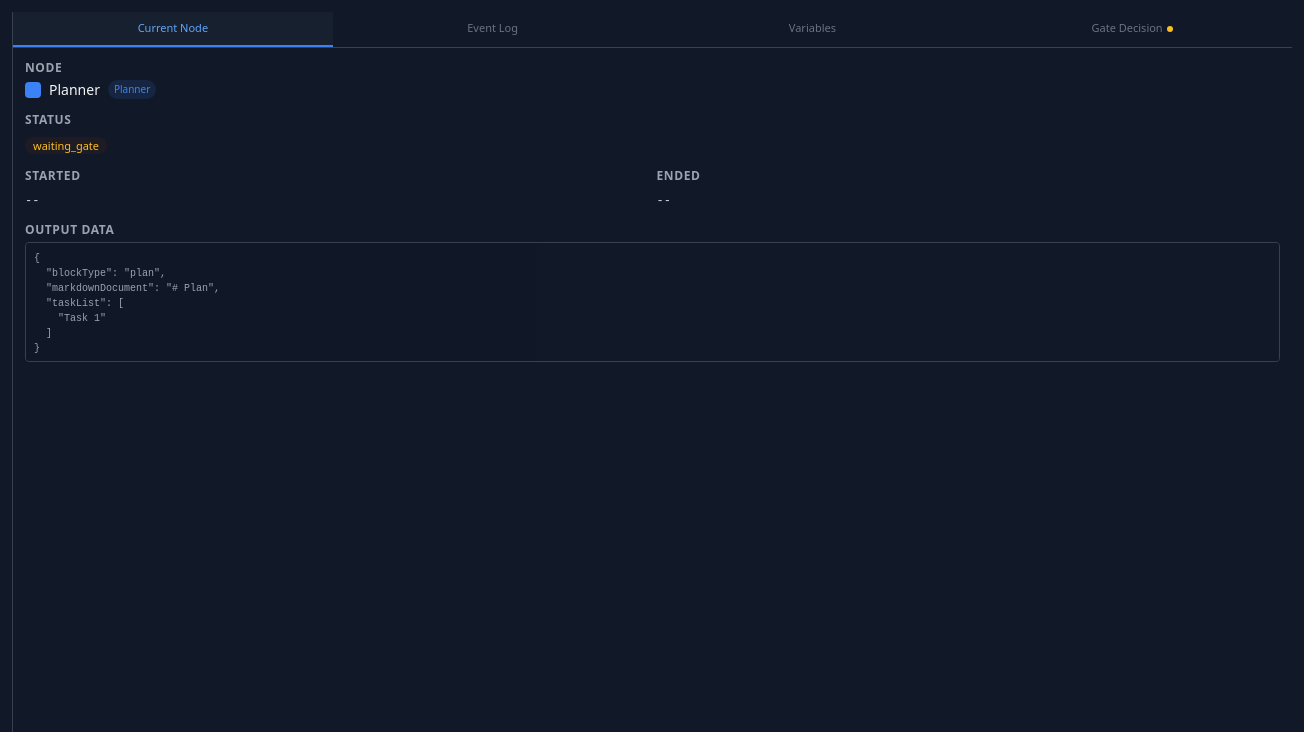
Test: ExecutionDetailsPanel -- onGateContinue / onGateRevise wiring (#280) › renders StepGatePanel with correct props when in waiting_gate status
The width and height of the screenshot is (1304, 732).
Note: Click gate tab
Click the button "Gate Decision": [1132, 29] box [972,12,1292,46]
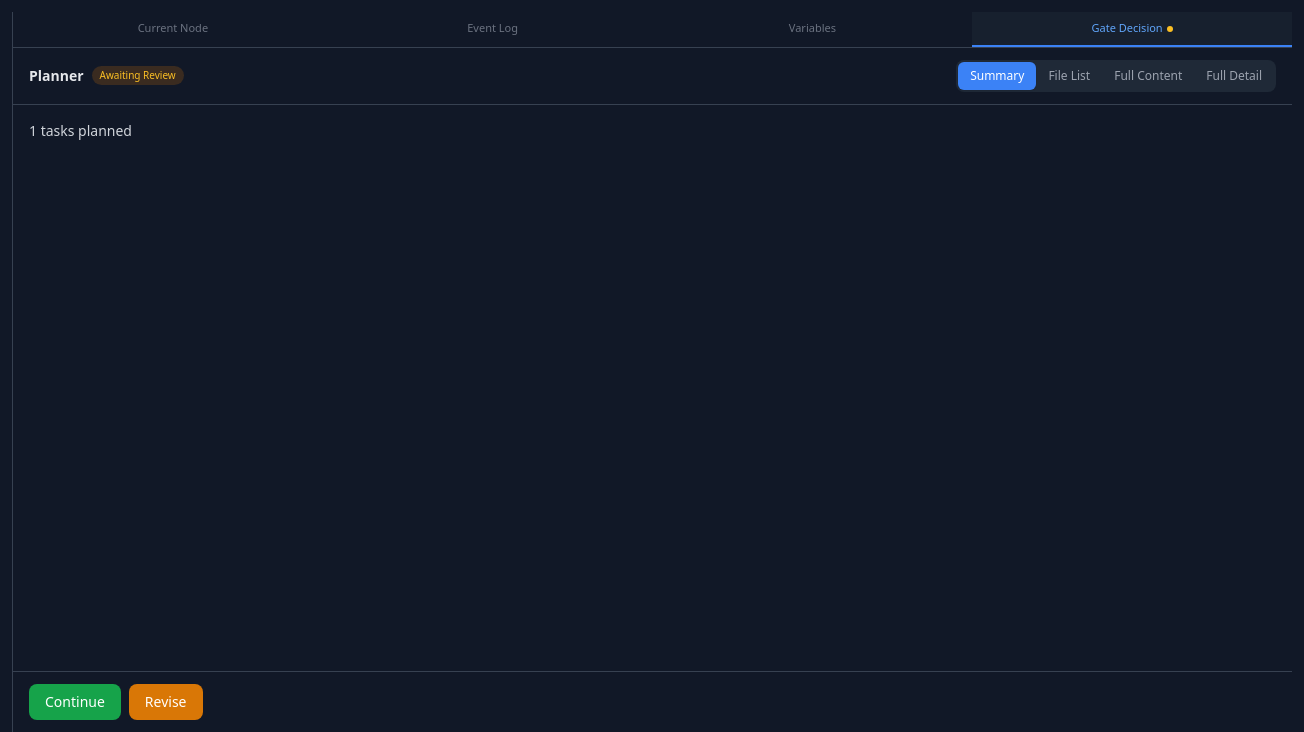
Check: the heading "Planner" is shown, box [29,66,84,86]
Check: the text "Awaiting Review" is shown, box [92,66,184,85]
